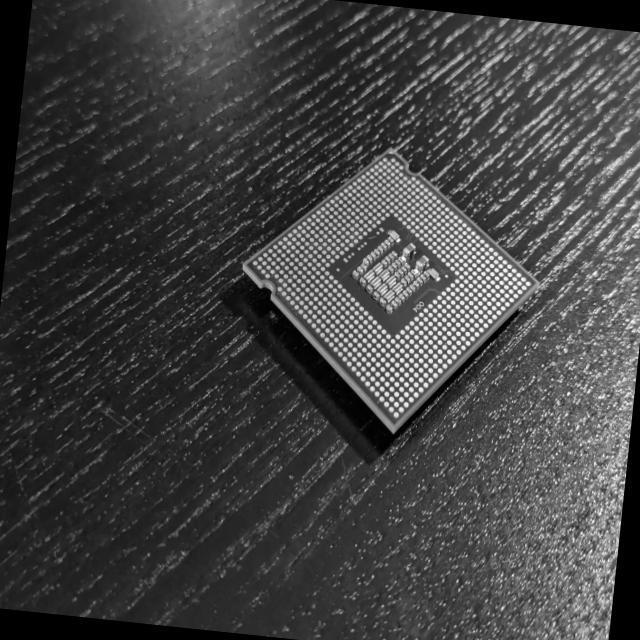CPU: (225, 131, 552, 449)
